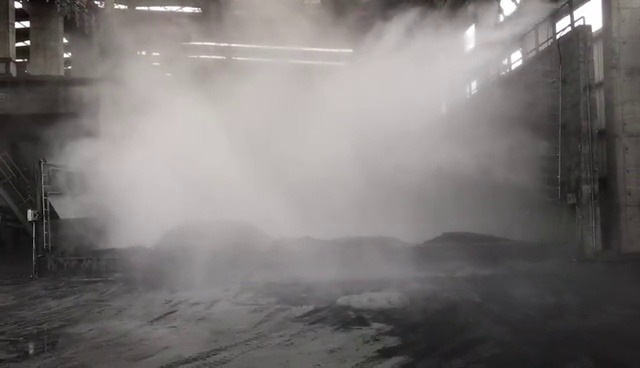dust: (81, 7, 538, 274)
